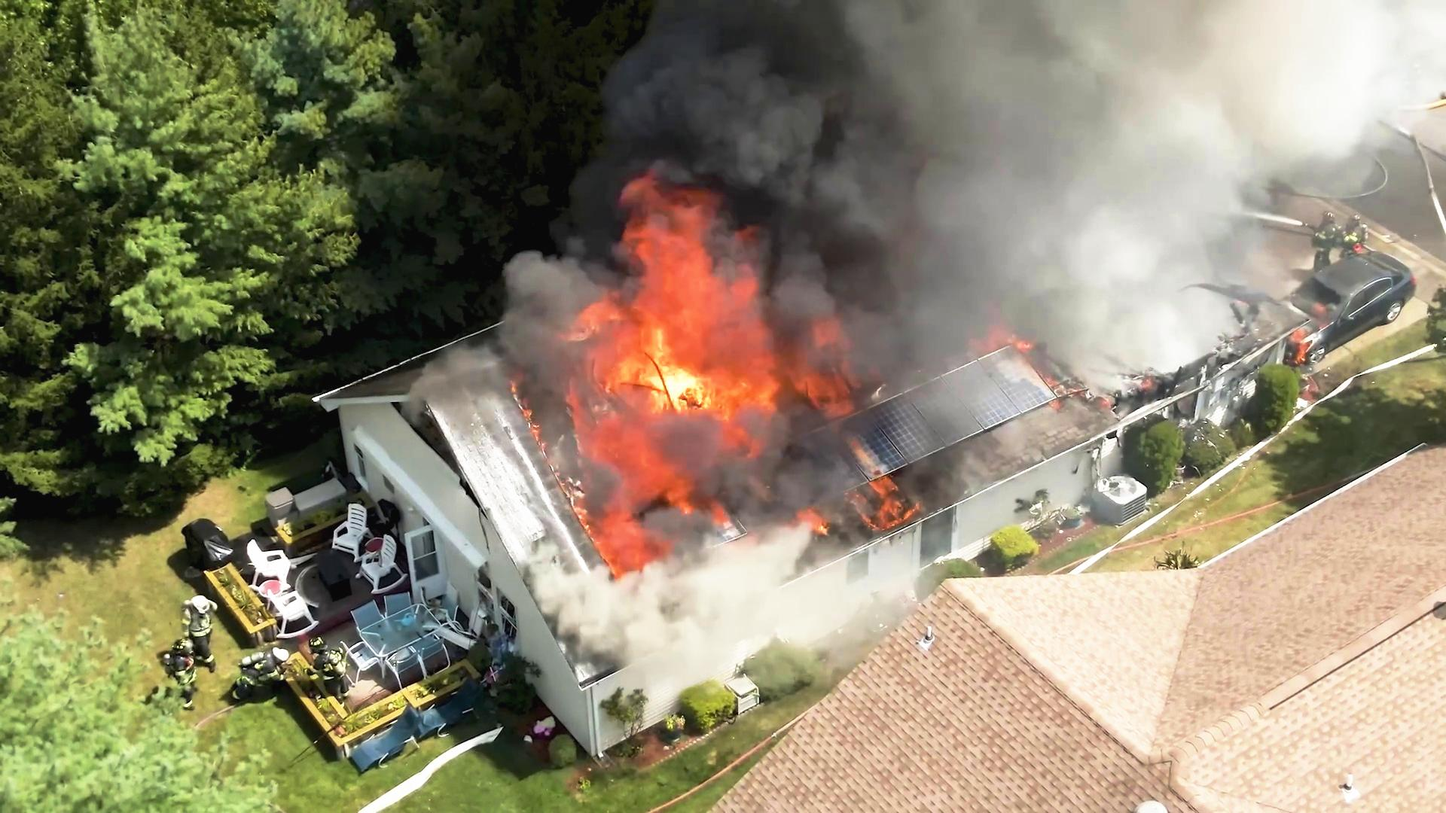fire: (545, 172, 781, 441)
smoke: (904, 0, 1270, 298)
